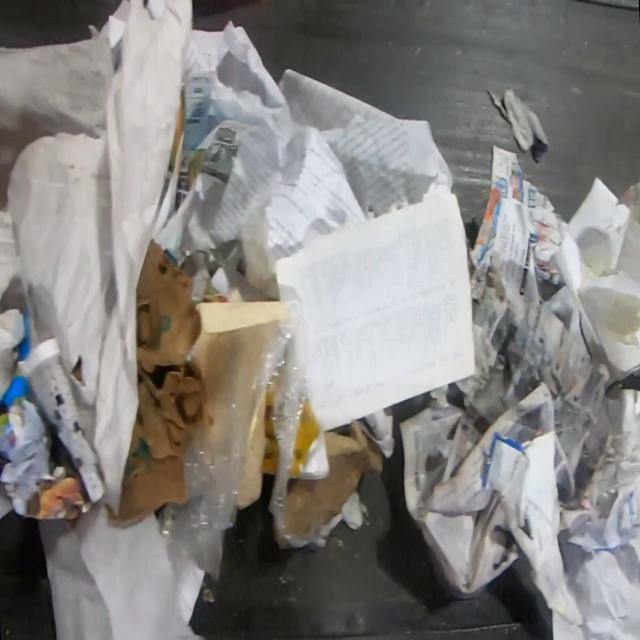cardboard: (119, 240, 207, 520), (286, 422, 386, 534)
rigid_plastic: (616, 182, 640, 226)
soft_plastic: (161, 296, 327, 586)
